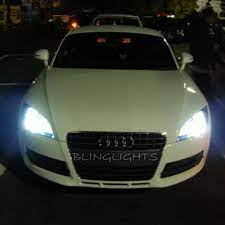headlight: (17, 100, 210, 139)
